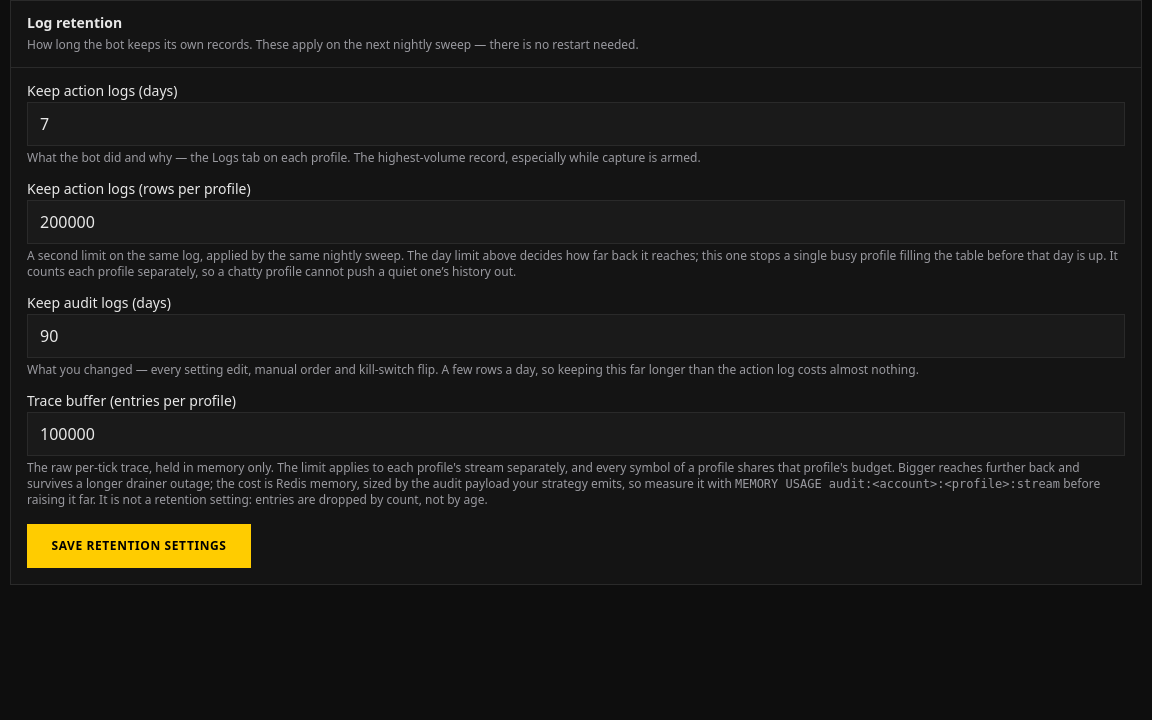
RetentionSettingsCard › surfaces a server rejection without discarding what was typed
Replace the text in the number field labelled "Keep action logs (days)" with "30": (576, 124) [27, 102, 1125, 146]
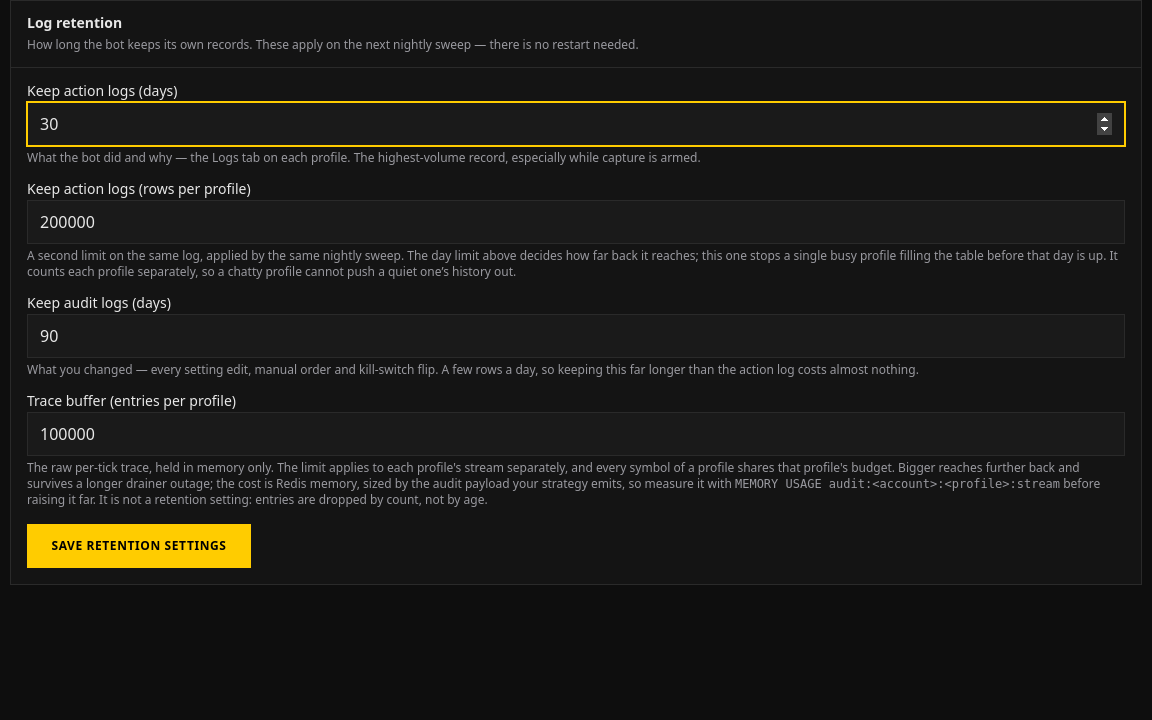
Click the button with test id "retention-save": (139, 546) [27, 524, 251, 568]
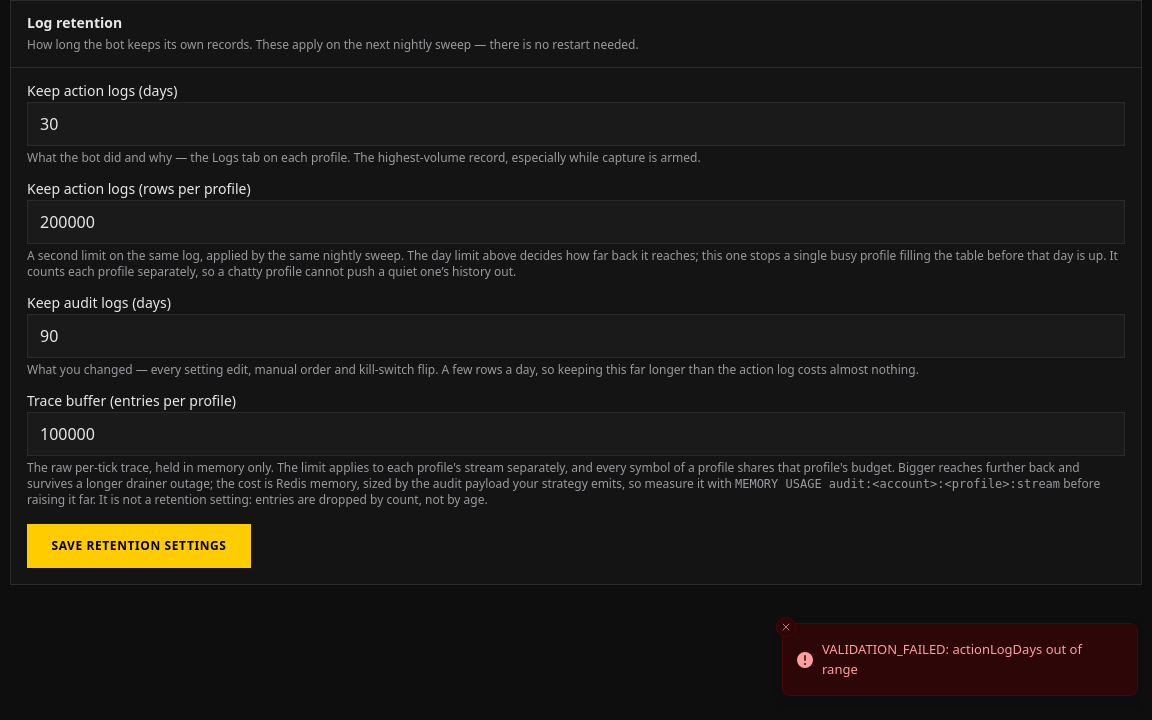
Expected: the text "VALIDATION_FAILED: actionLogDays out of range" is shown, [822, 640, 1121, 679]
